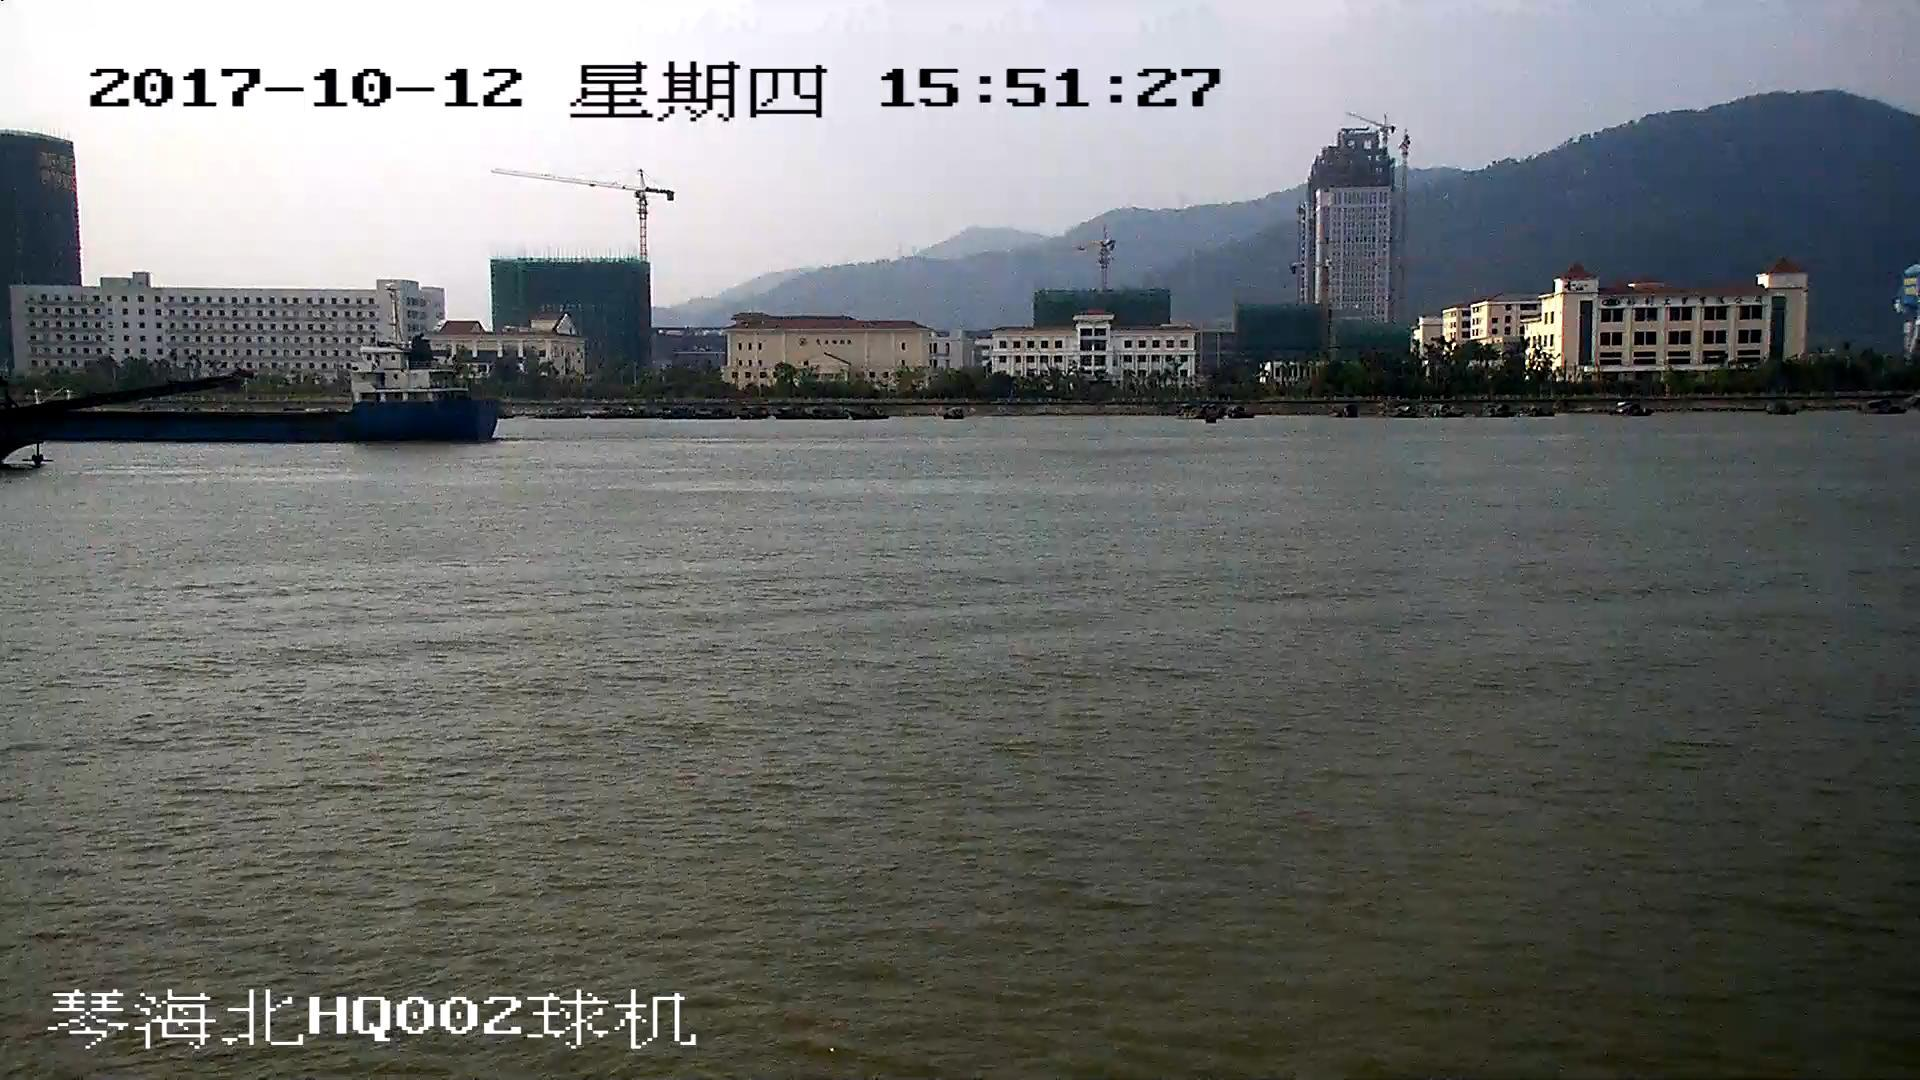Ship: (3, 334, 506, 444)
